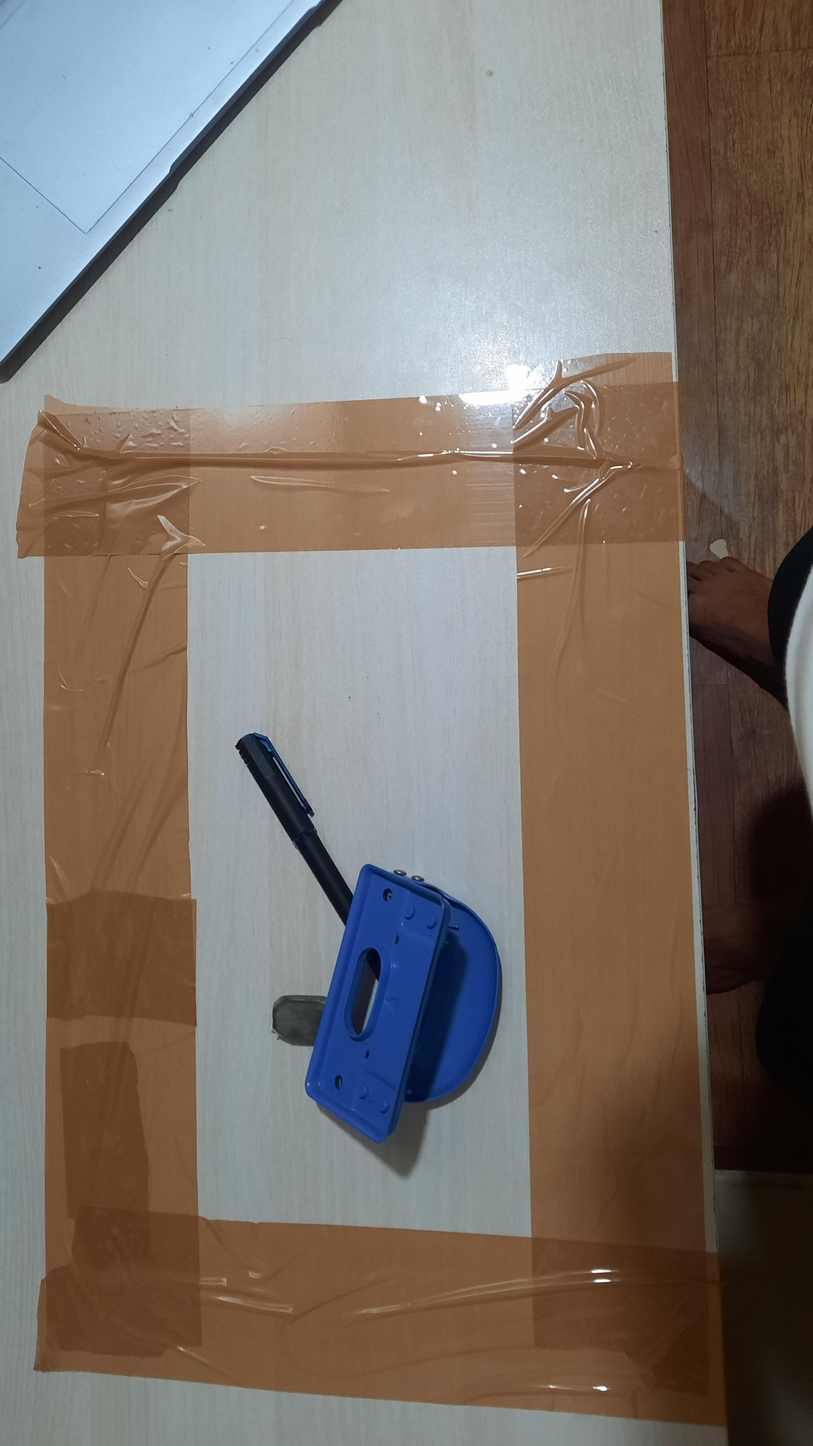Eraser: (272, 994, 328, 1048)
Pen: (235, 732, 354, 926)
Punch: (304, 864, 503, 1144)
